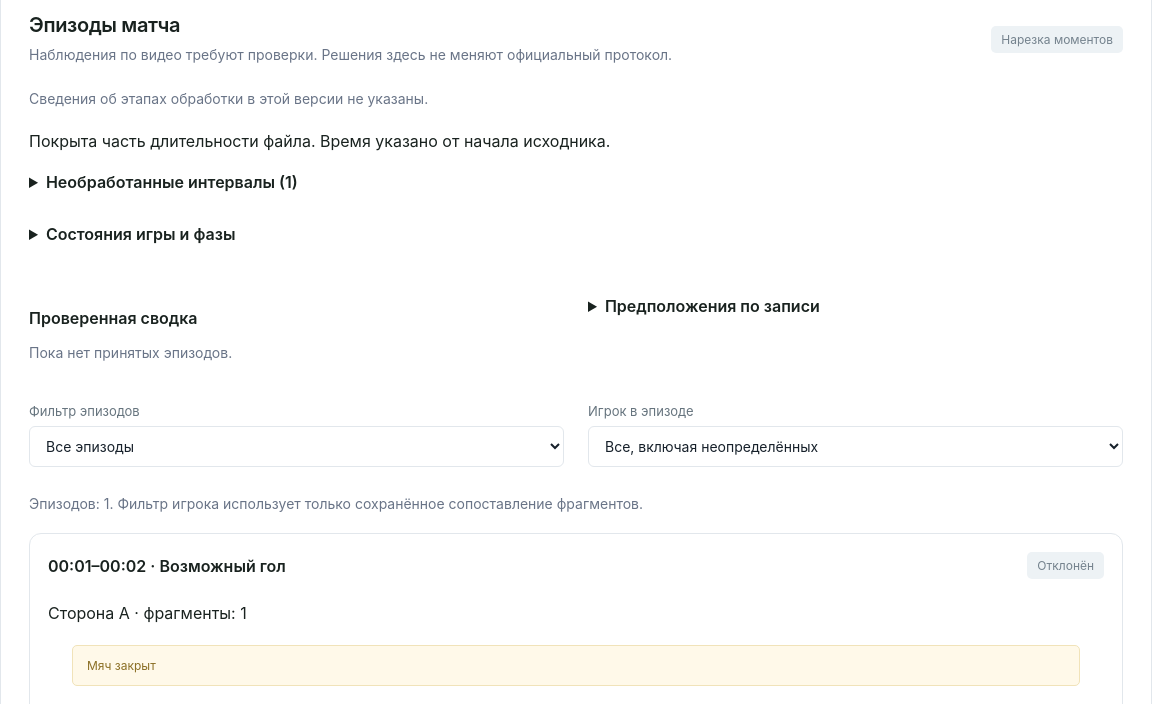
Test: filters episodes by the current decision without inventing readiness
Select "Принятые" in the dropdown labelled "Фильтр эпизодов" at (296,446), box 29,426 -> 564,467
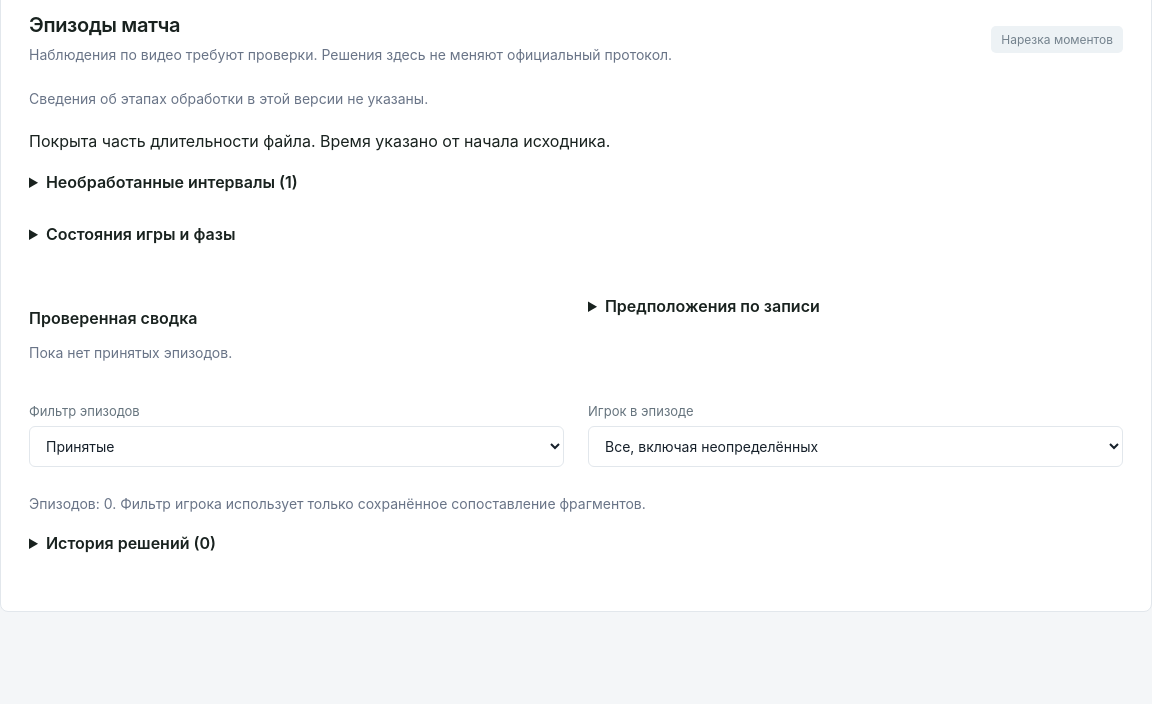
Select "Отклонённые" in the dropdown labelled "Фильтр эпизодов" at (296,446), box 29,426 -> 564,467
(page scrolled)
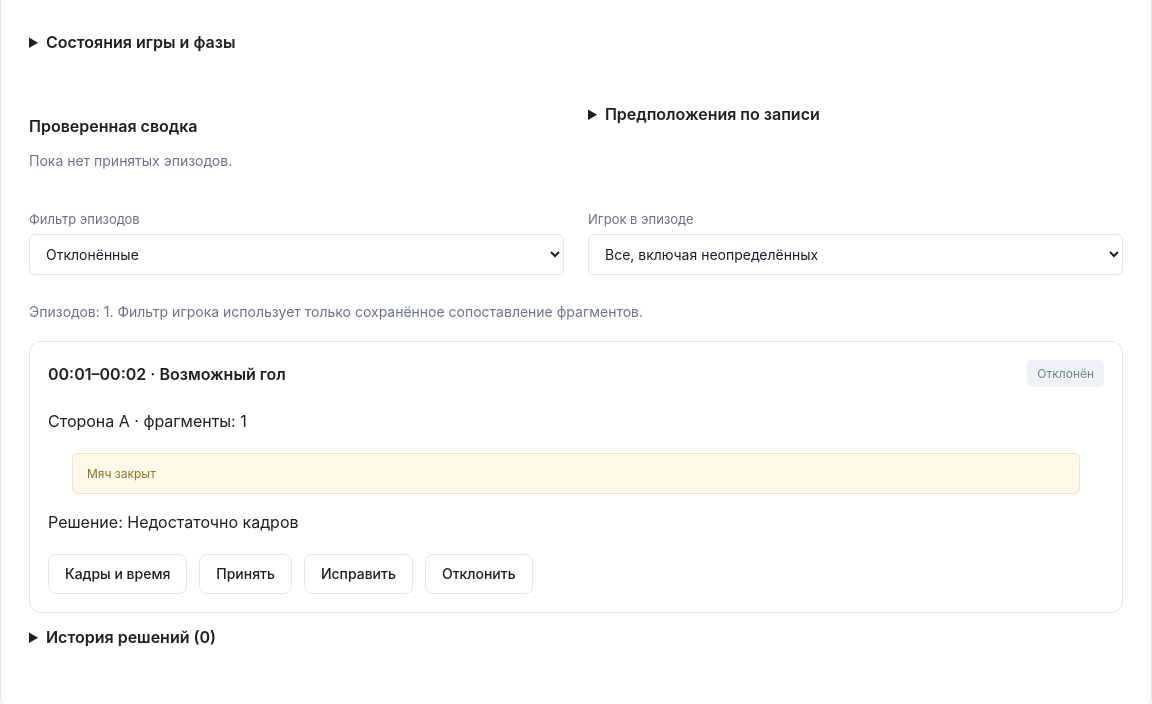
Now the button with aria-label "Принять эпизод e1" is shown, box 199,554 -> 292,594
